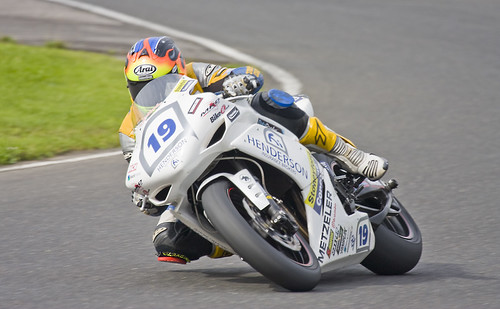helmet: (116, 30, 187, 78)
